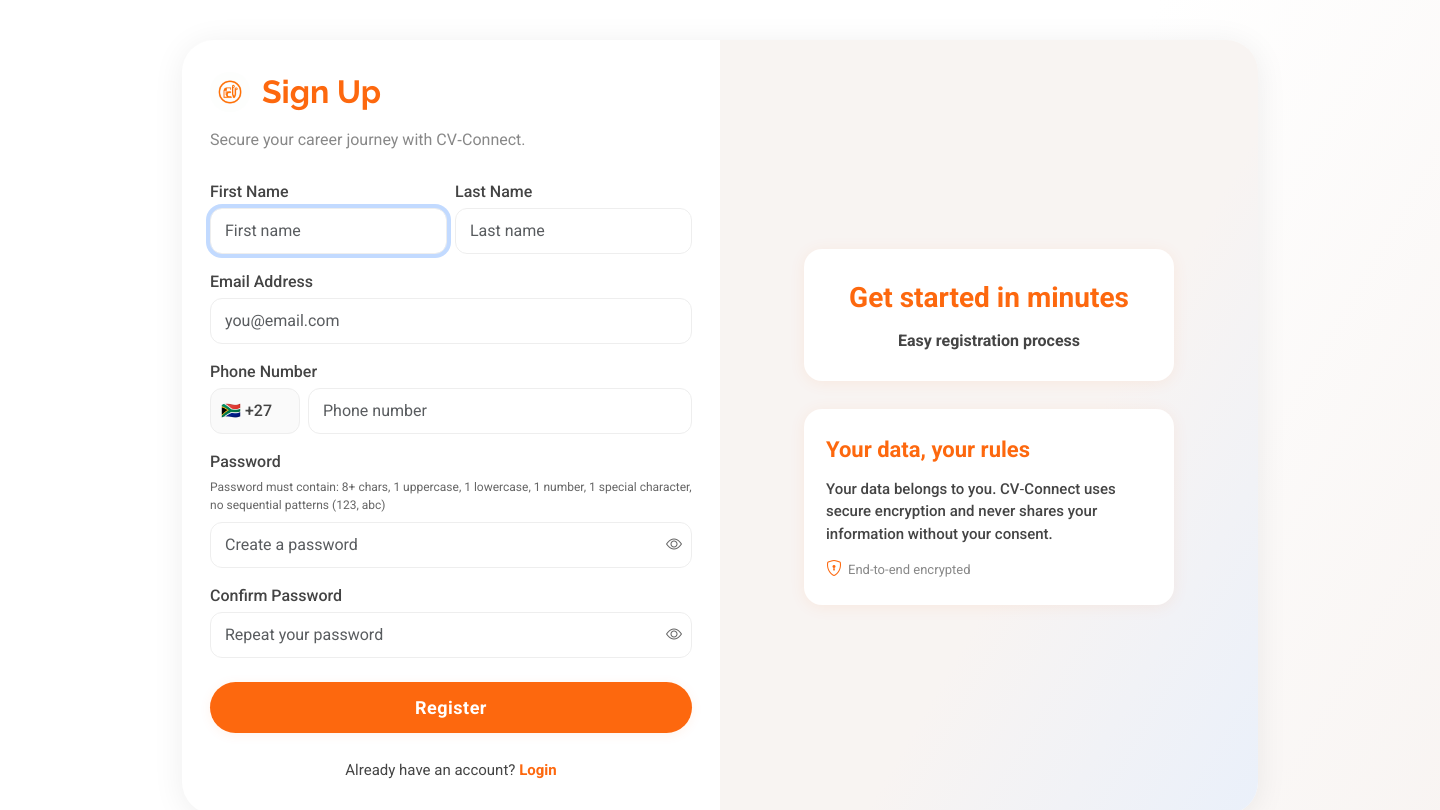
Register › shows error when fields are empty on submit
Click the button "Register": (451, 708) [210,682,692,733]
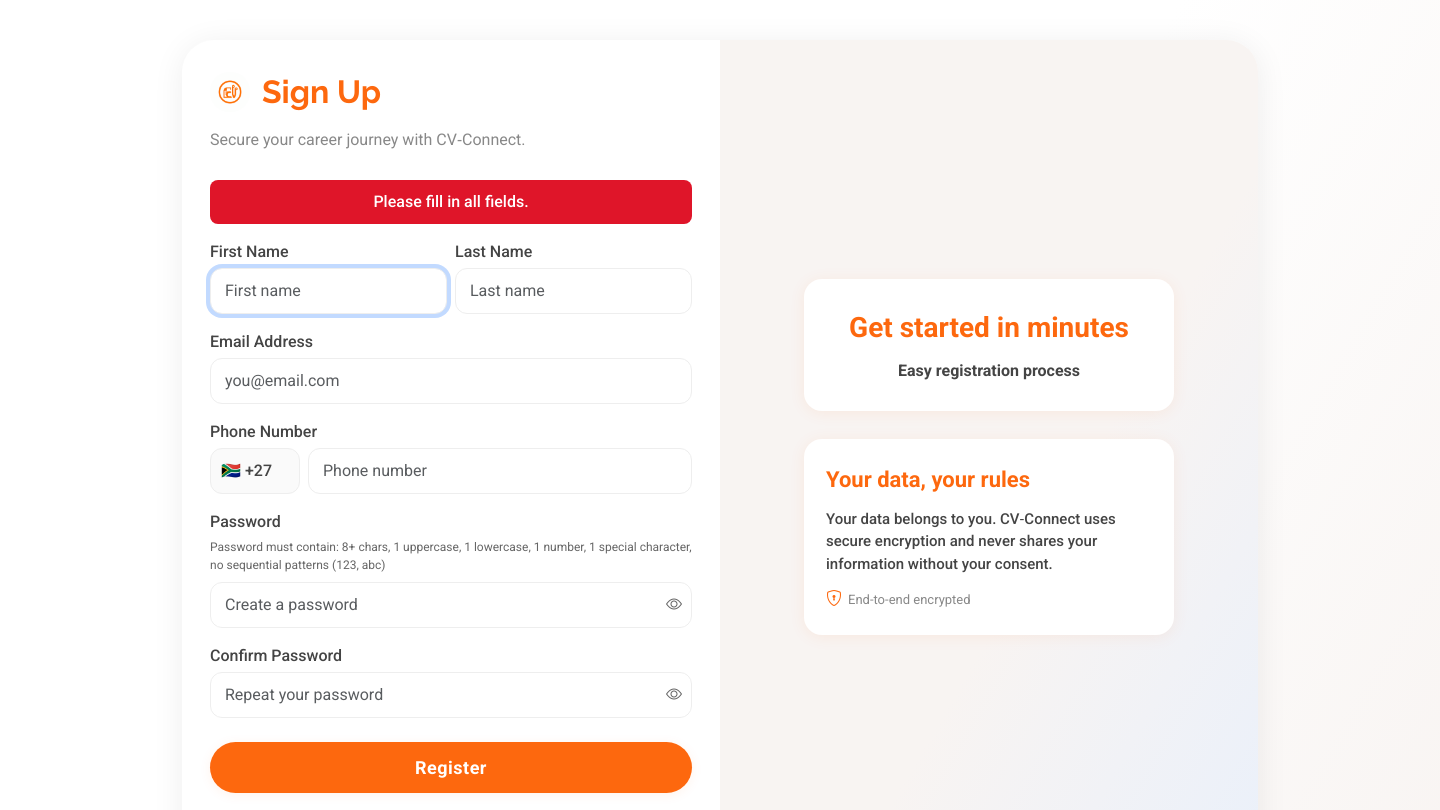
Now the text "Please fill in all fields." is shown, box [210,180,692,224]
